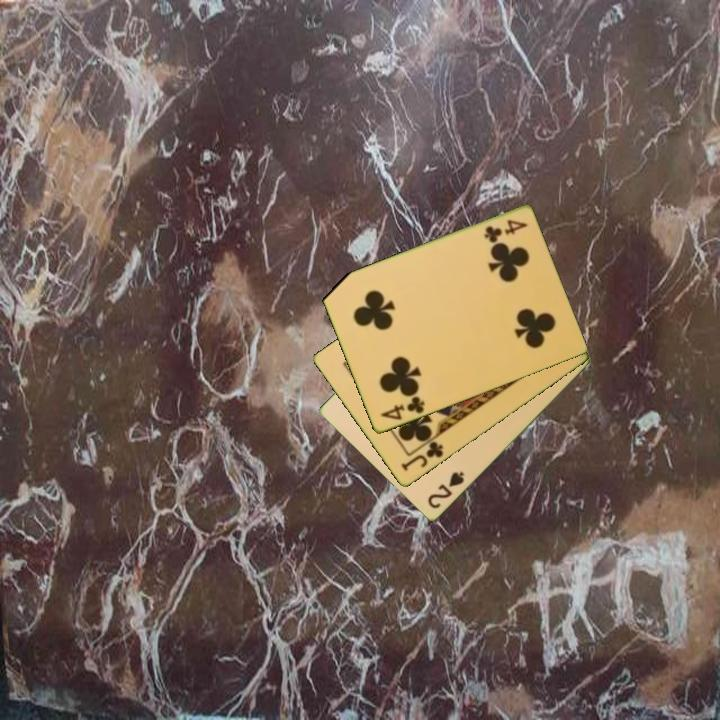2s: (424, 468, 467, 512)
4c: (377, 393, 428, 423), (480, 216, 530, 245)
Jc: (397, 438, 446, 474)
